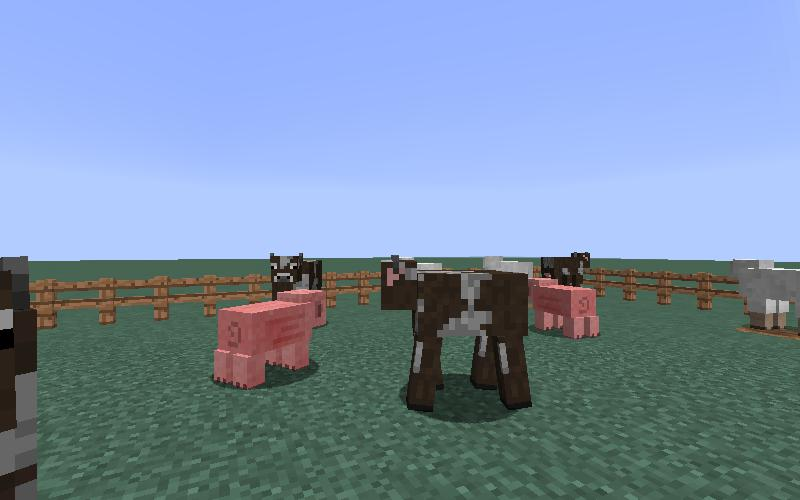cow: (376, 249, 541, 421), (541, 247, 591, 294), (270, 253, 322, 291)
pig: (210, 286, 330, 395), (526, 273, 602, 344)
sheep: (728, 254, 800, 333)
